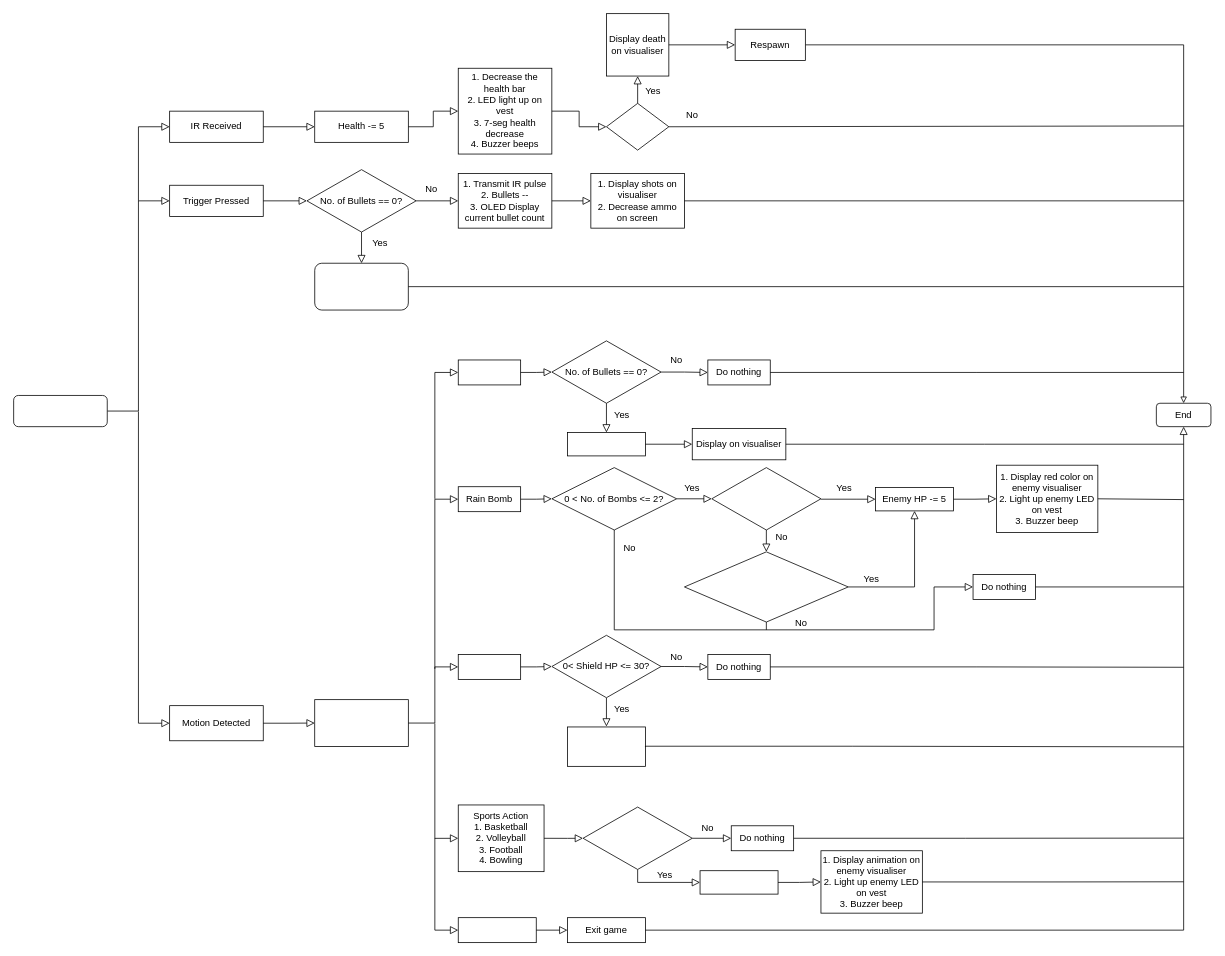
The diagram is 1225 pixels wide and 956 high, and some of its shapes have lost their labels. Each missing label, with the centre of its shape:
Alert player on screen: the point at 361,286
Bullets = 6: the point at 606,444
Display shield on visualiser: the point at 606,746
Enemy HP -= 10: the point at 738,882
Enemy in sight?: the point at 637,837
Enemy walks into rain bomb radius && IsVisible: the point at 766,586
Generated output from AI Model: the point at 361,722
HP <= 0?: the point at 637,126
Lands on enemy?: the point at 766,498
Logout action: the point at 496,930
Reload: the point at 489,372
Shield: the point at 489,666
Start: the point at 60,411
